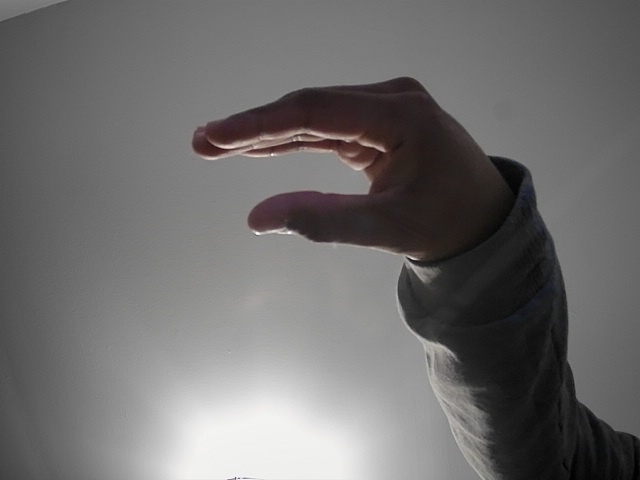No: (186, 58, 513, 272)
